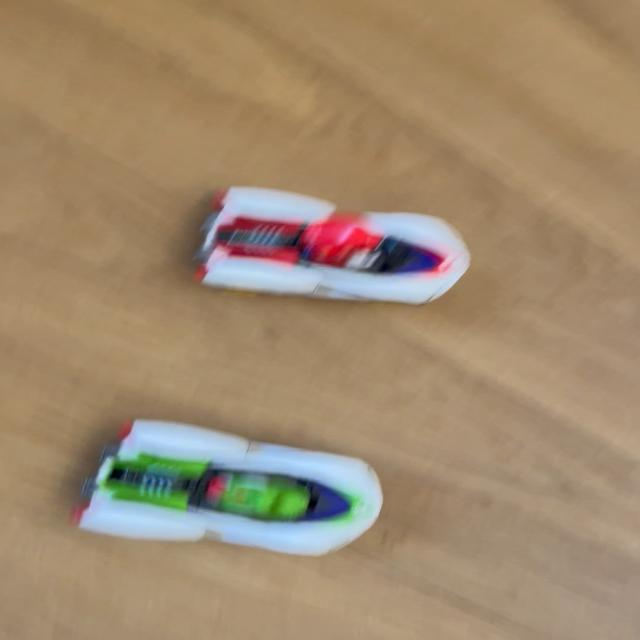mario: (161, 185, 496, 319)
yoshi: (67, 410, 414, 561)
